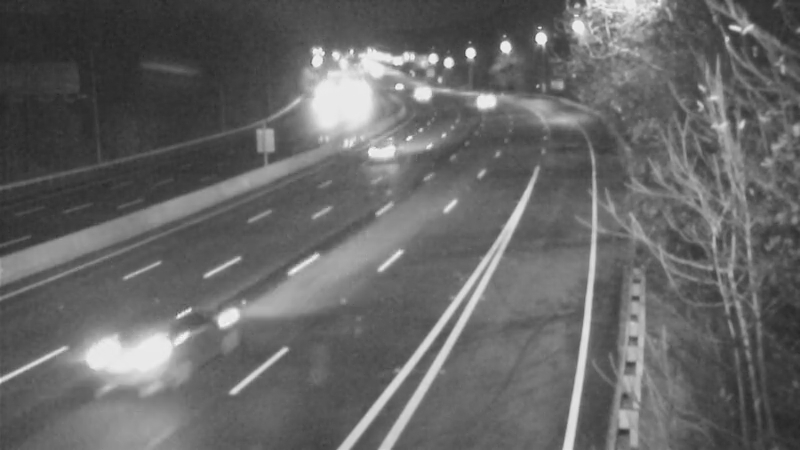vehicle: (83, 293, 193, 403), (372, 60, 422, 110), (396, 63, 446, 113), (453, 77, 503, 127), (355, 124, 405, 174)
